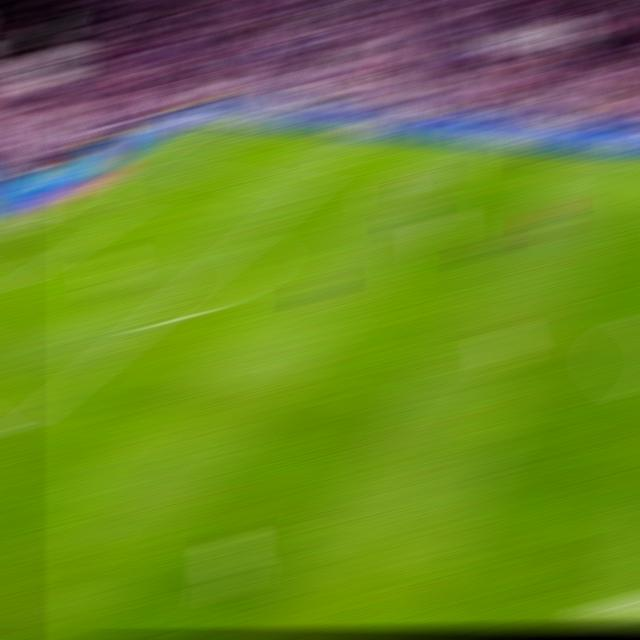bigarea_bottom_inner: (0, 422, 30, 443)
bigarea_top_inner: (296, 182, 324, 191)
bigarea_top_outter: (125, 159, 155, 170)
bottom_arc_area_intersection: (131, 315, 163, 330)
corner: (195, 122, 226, 129)
smallarea_top_inner: (111, 212, 139, 219)
top_arc_area_intersection: (232, 234, 262, 246)
